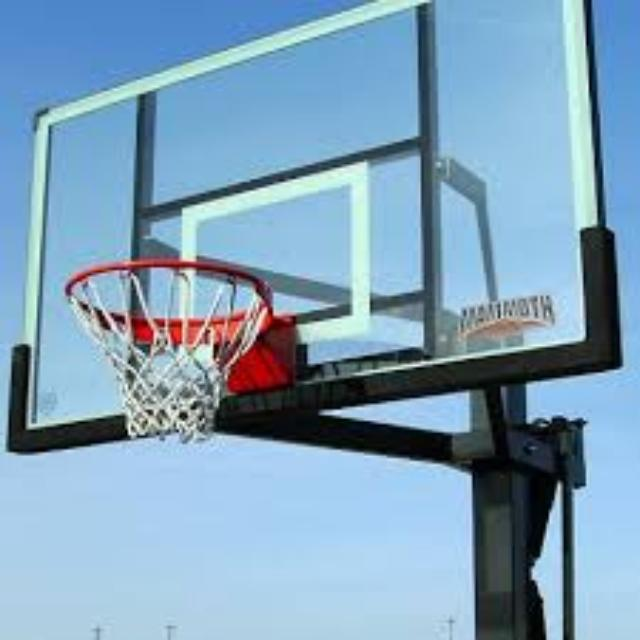rim: (66, 260, 270, 442)
